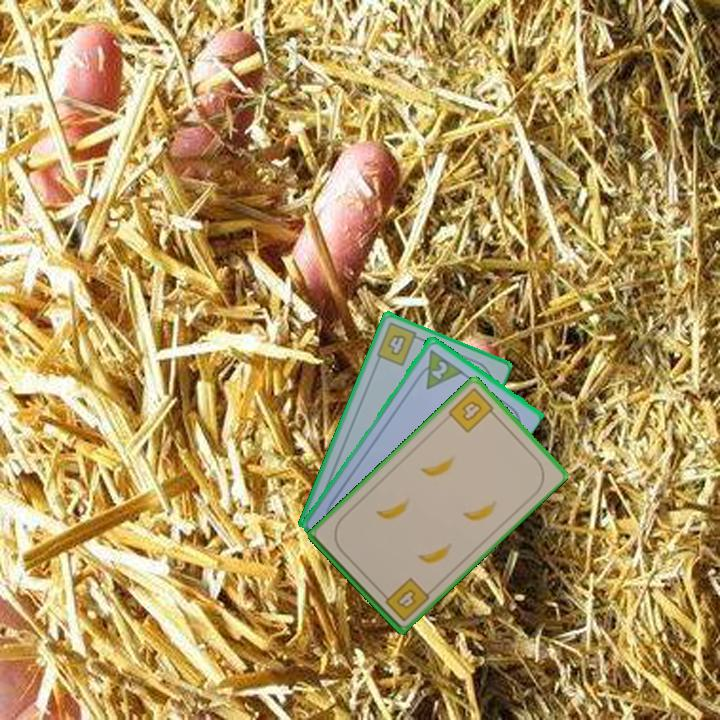2p: (412, 345, 464, 392)
4b: (444, 384, 500, 435), (377, 574, 432, 624), (373, 319, 425, 369)
